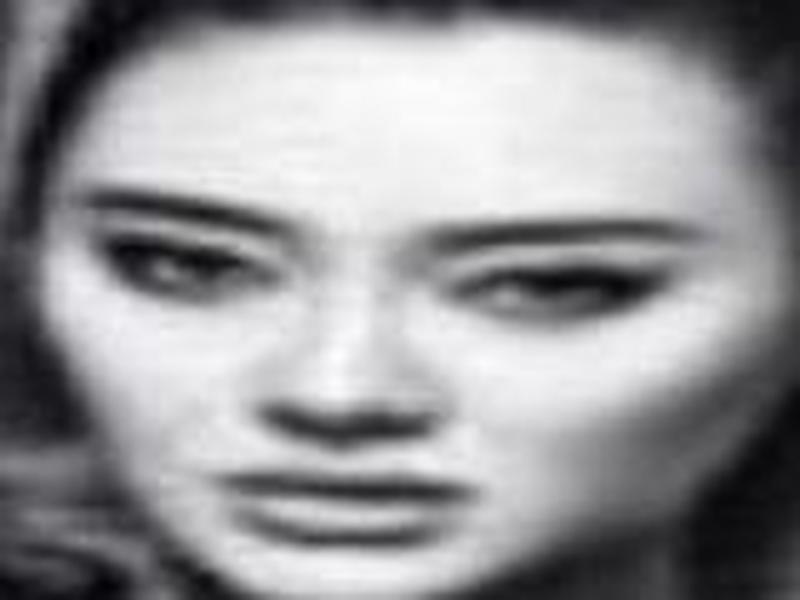without_mask: (38, 95, 777, 600)
